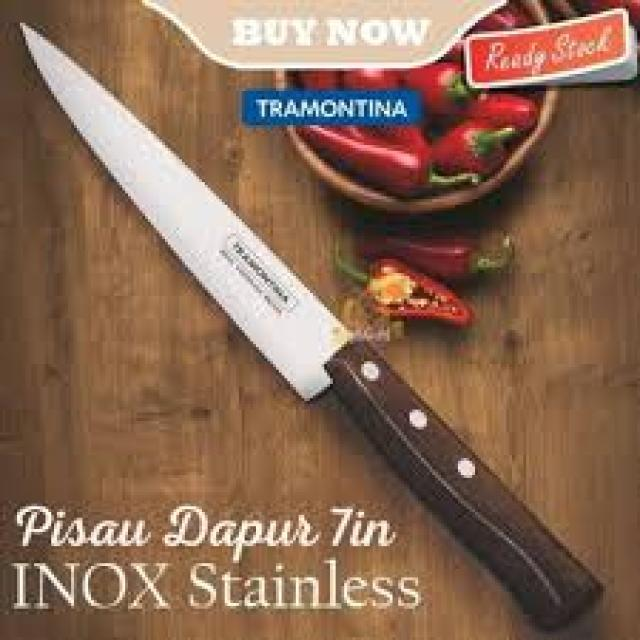Knife: (23, 23, 600, 629)
